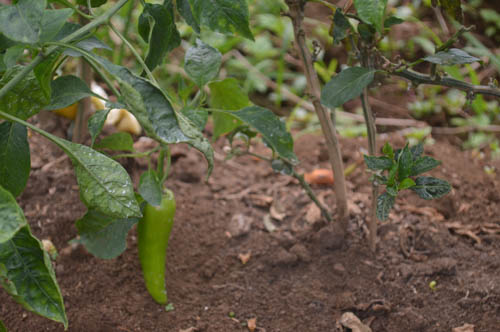ChiliPepper: (133, 195, 173, 304)
